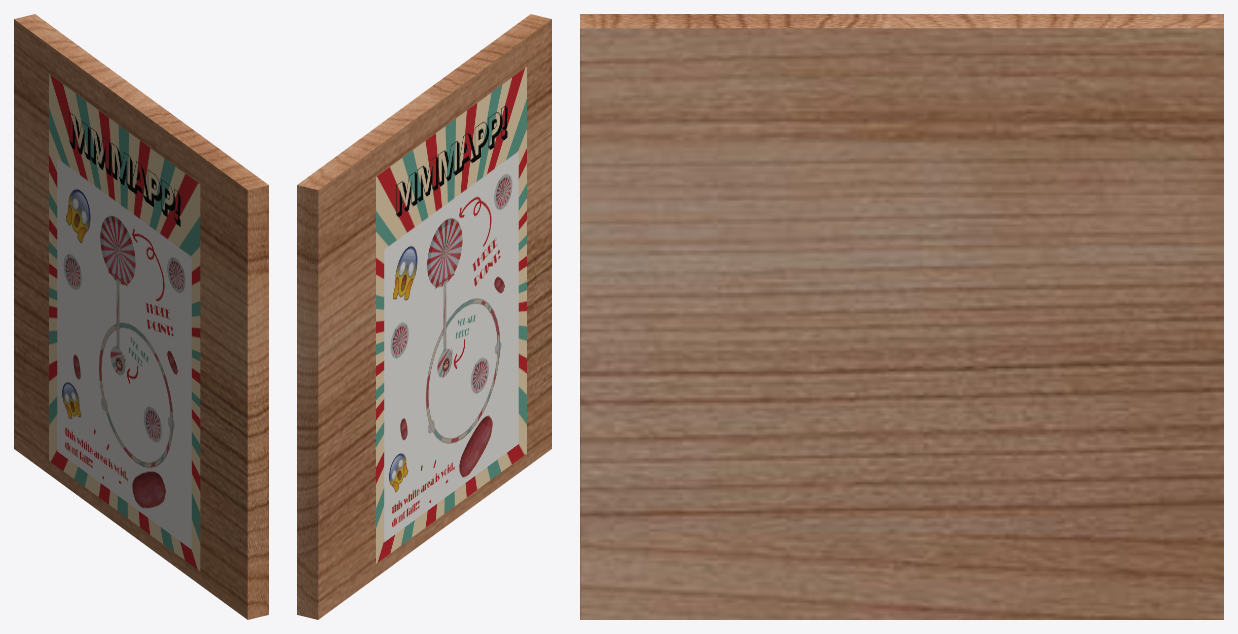
Rendered from mustBeWork.obj.
3 views of the same model, side by side, from view 1: azimuth 30°, elevation 25°; view 2: azimuth 150°, elevation 25°; view 3: azimuth 270°, elevation 25° (orthographic). The views are drawn at different scales.
Size of the model in its own units: 0.65 by 8.21 by 8.09.
